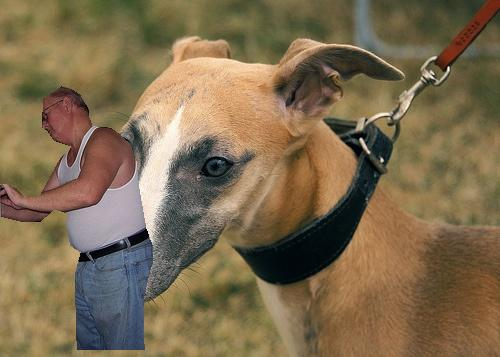tampered: (1, 87, 153, 350)
